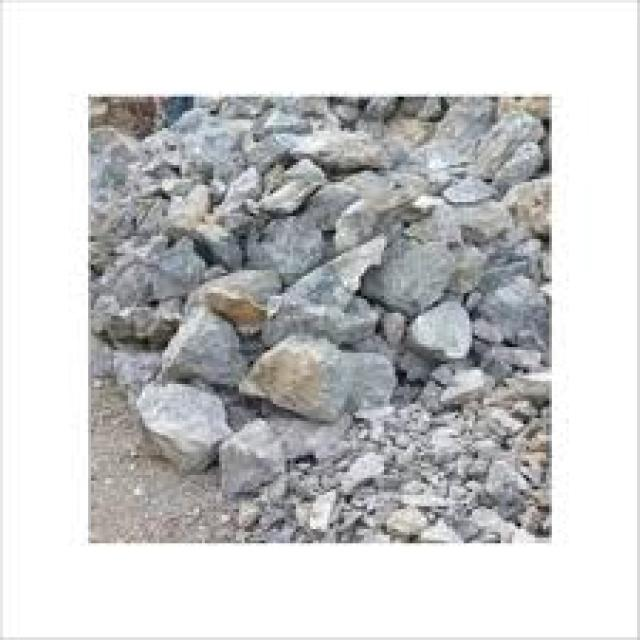Pecahan Agregat: (126, 130, 542, 515)
